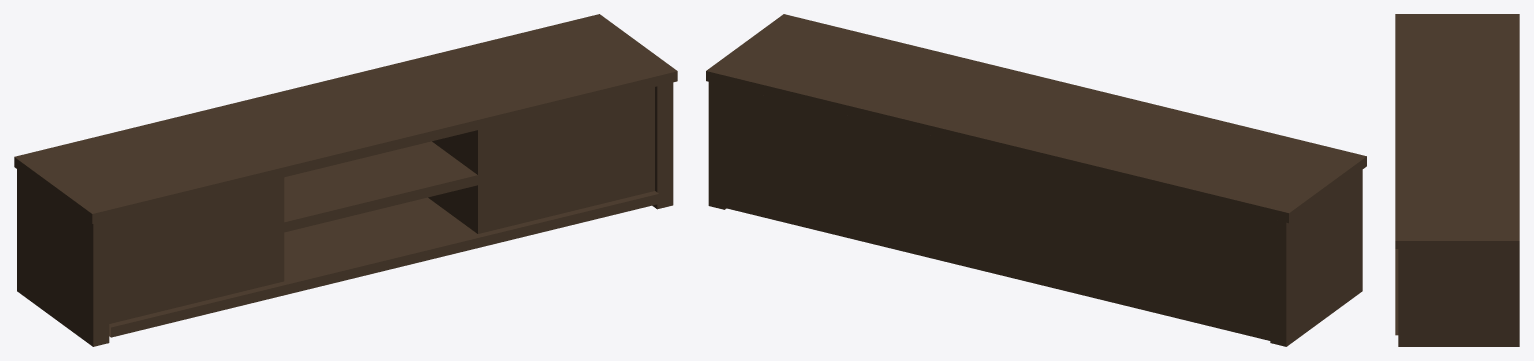
Rendered from table-television.glb.
The picture shows the model from 3 angles, left to right: view 1: azimuth 30°, elevation 25°; view 2: azimuth 150°, elevation 25°; view 3: azimuth 270°, elevation 25°; orthographic projection. The views are drawn at different scales.
Parts seen in each view (by area): view 1: table-television; view 2: table-television; view 3: table-television.
Boxes of the visible parts, bbox=[...] form: table-television: bbox=[14, 14, 677, 346]; table-television: bbox=[706, 14, 1366, 346]; table-television: bbox=[1395, 14, 1519, 346].
Bounding box in the file's own units: 1.82 × 0.4 × 0.42.
1 material, 1 textured.
